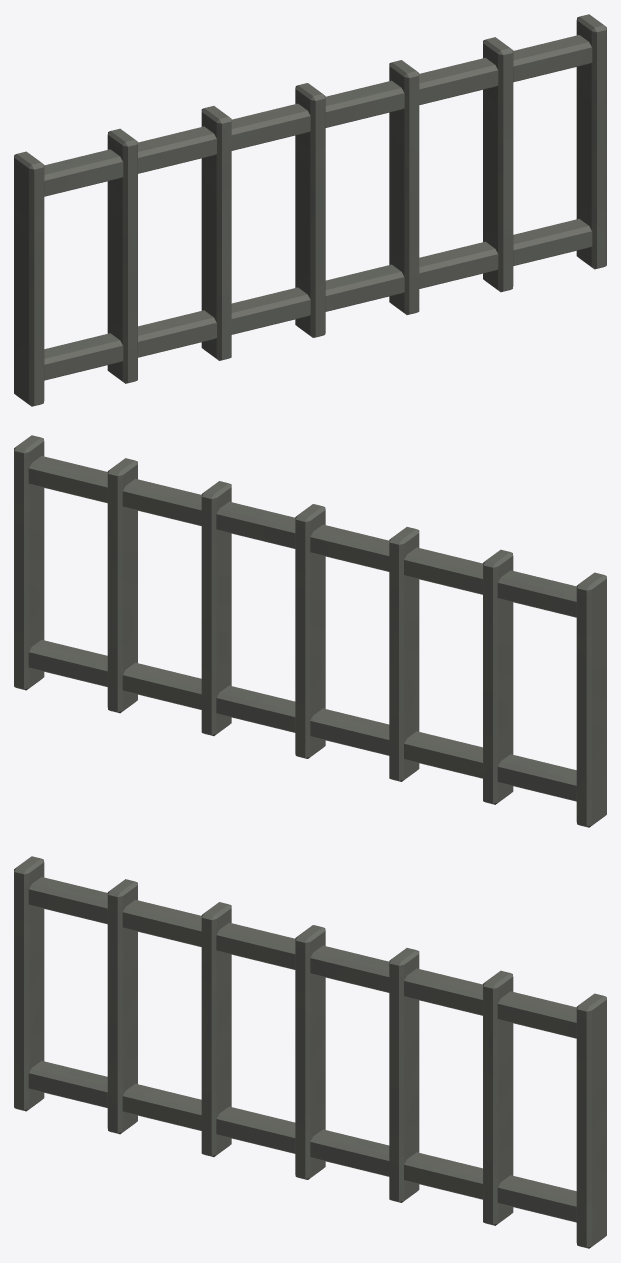
File: WarrensC_CCS11_RailInfillBay_Mars_SM.fbx
3 renders of one model, top to bottom at view 1: azimuth 30°, elevation 25°; view 2: azimuth 150°, elevation 25°; view 3: azimuth 330°, elevation 25°, orthographic.
Parts seen in each view (by area): view 1: WarrensC_CCS11_RailInfillBay_Mars_SM.001; view 2: WarrensC_CCS11_RailInfillBay_Mars_SM.001; view 3: WarrensC_CCS11_RailInfillBay_Mars_SM.001.
Part boxes in pixels (x1,y1,x2,y2): WarrensC_CCS11_RailInfillBay_Mars_SM.001: (14, 14, 606, 406); WarrensC_CCS11_RailInfillBay_Mars_SM.001: (14, 435, 606, 827); WarrensC_CCS11_RailInfillBay_Mars_SM.001: (14, 856, 606, 1248).
Bounding box in the file's own units: 200 × 12 × 80.
